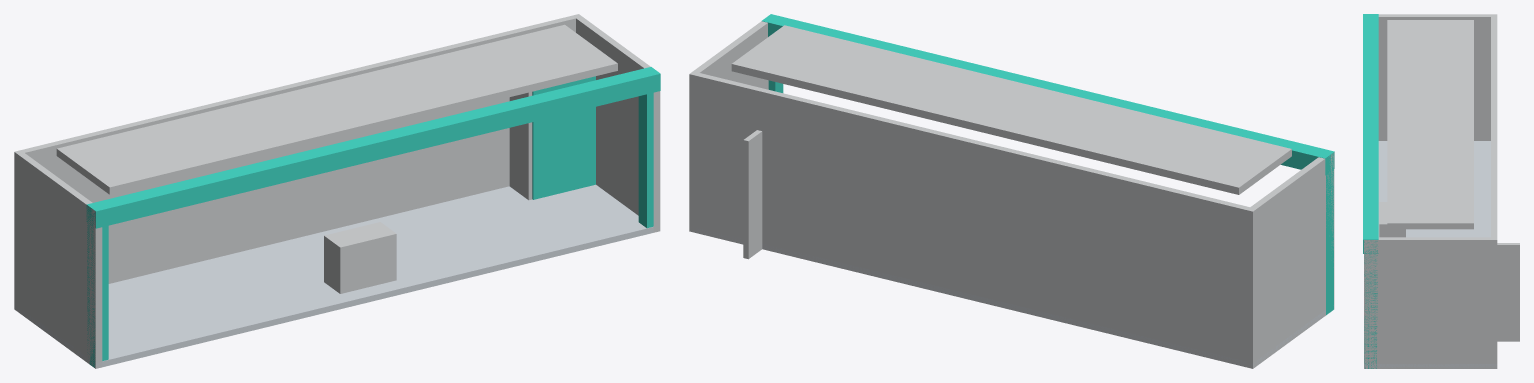
3 renders of one model, left to right at view 1: azimuth 30°, elevation 25°; view 2: azimuth 150°, elevation 25°; view 3: azimuth 270°, elevation 25°, orthographic. The views are drawn at different scales.
Visible parts, largest first — view 1: Exhibition Booth Concept; view 2: Exhibition Booth Concept; view 3: Exhibition Booth Concept.
Part boxes in pixels (box(x1,y1,x2,y2)): Exhibition Booth Concept: box(14, 14, 660, 368); Exhibition Booth Concept: box(689, 14, 1334, 368); Exhibition Booth Concept: box(1363, 14, 1519, 368).
Bounding box in the file's own units: 12 × 3.34 × 3.52.
